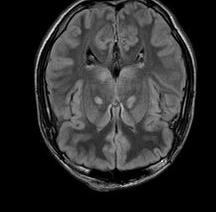Normal_Brain: (17, 1, 216, 209)
